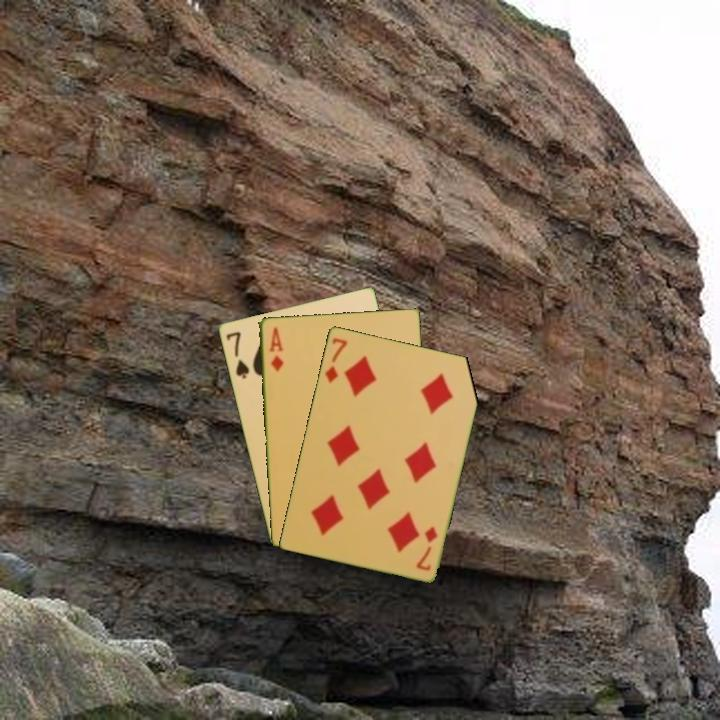7d: (321, 334, 350, 386), (412, 523, 440, 573)
7s: (222, 328, 252, 381)
Ad: (265, 323, 286, 374)
